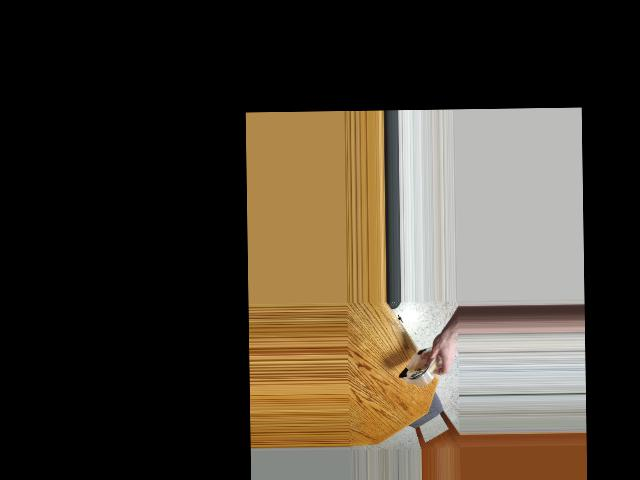cheese: (398, 335, 440, 393)
